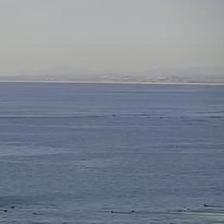surfer: (203, 204, 214, 208), (173, 210, 183, 212), (10, 206, 16, 209), (32, 212, 36, 216), (4, 209, 8, 213), (131, 210, 136, 213), (110, 210, 114, 213), (186, 208, 190, 210)
